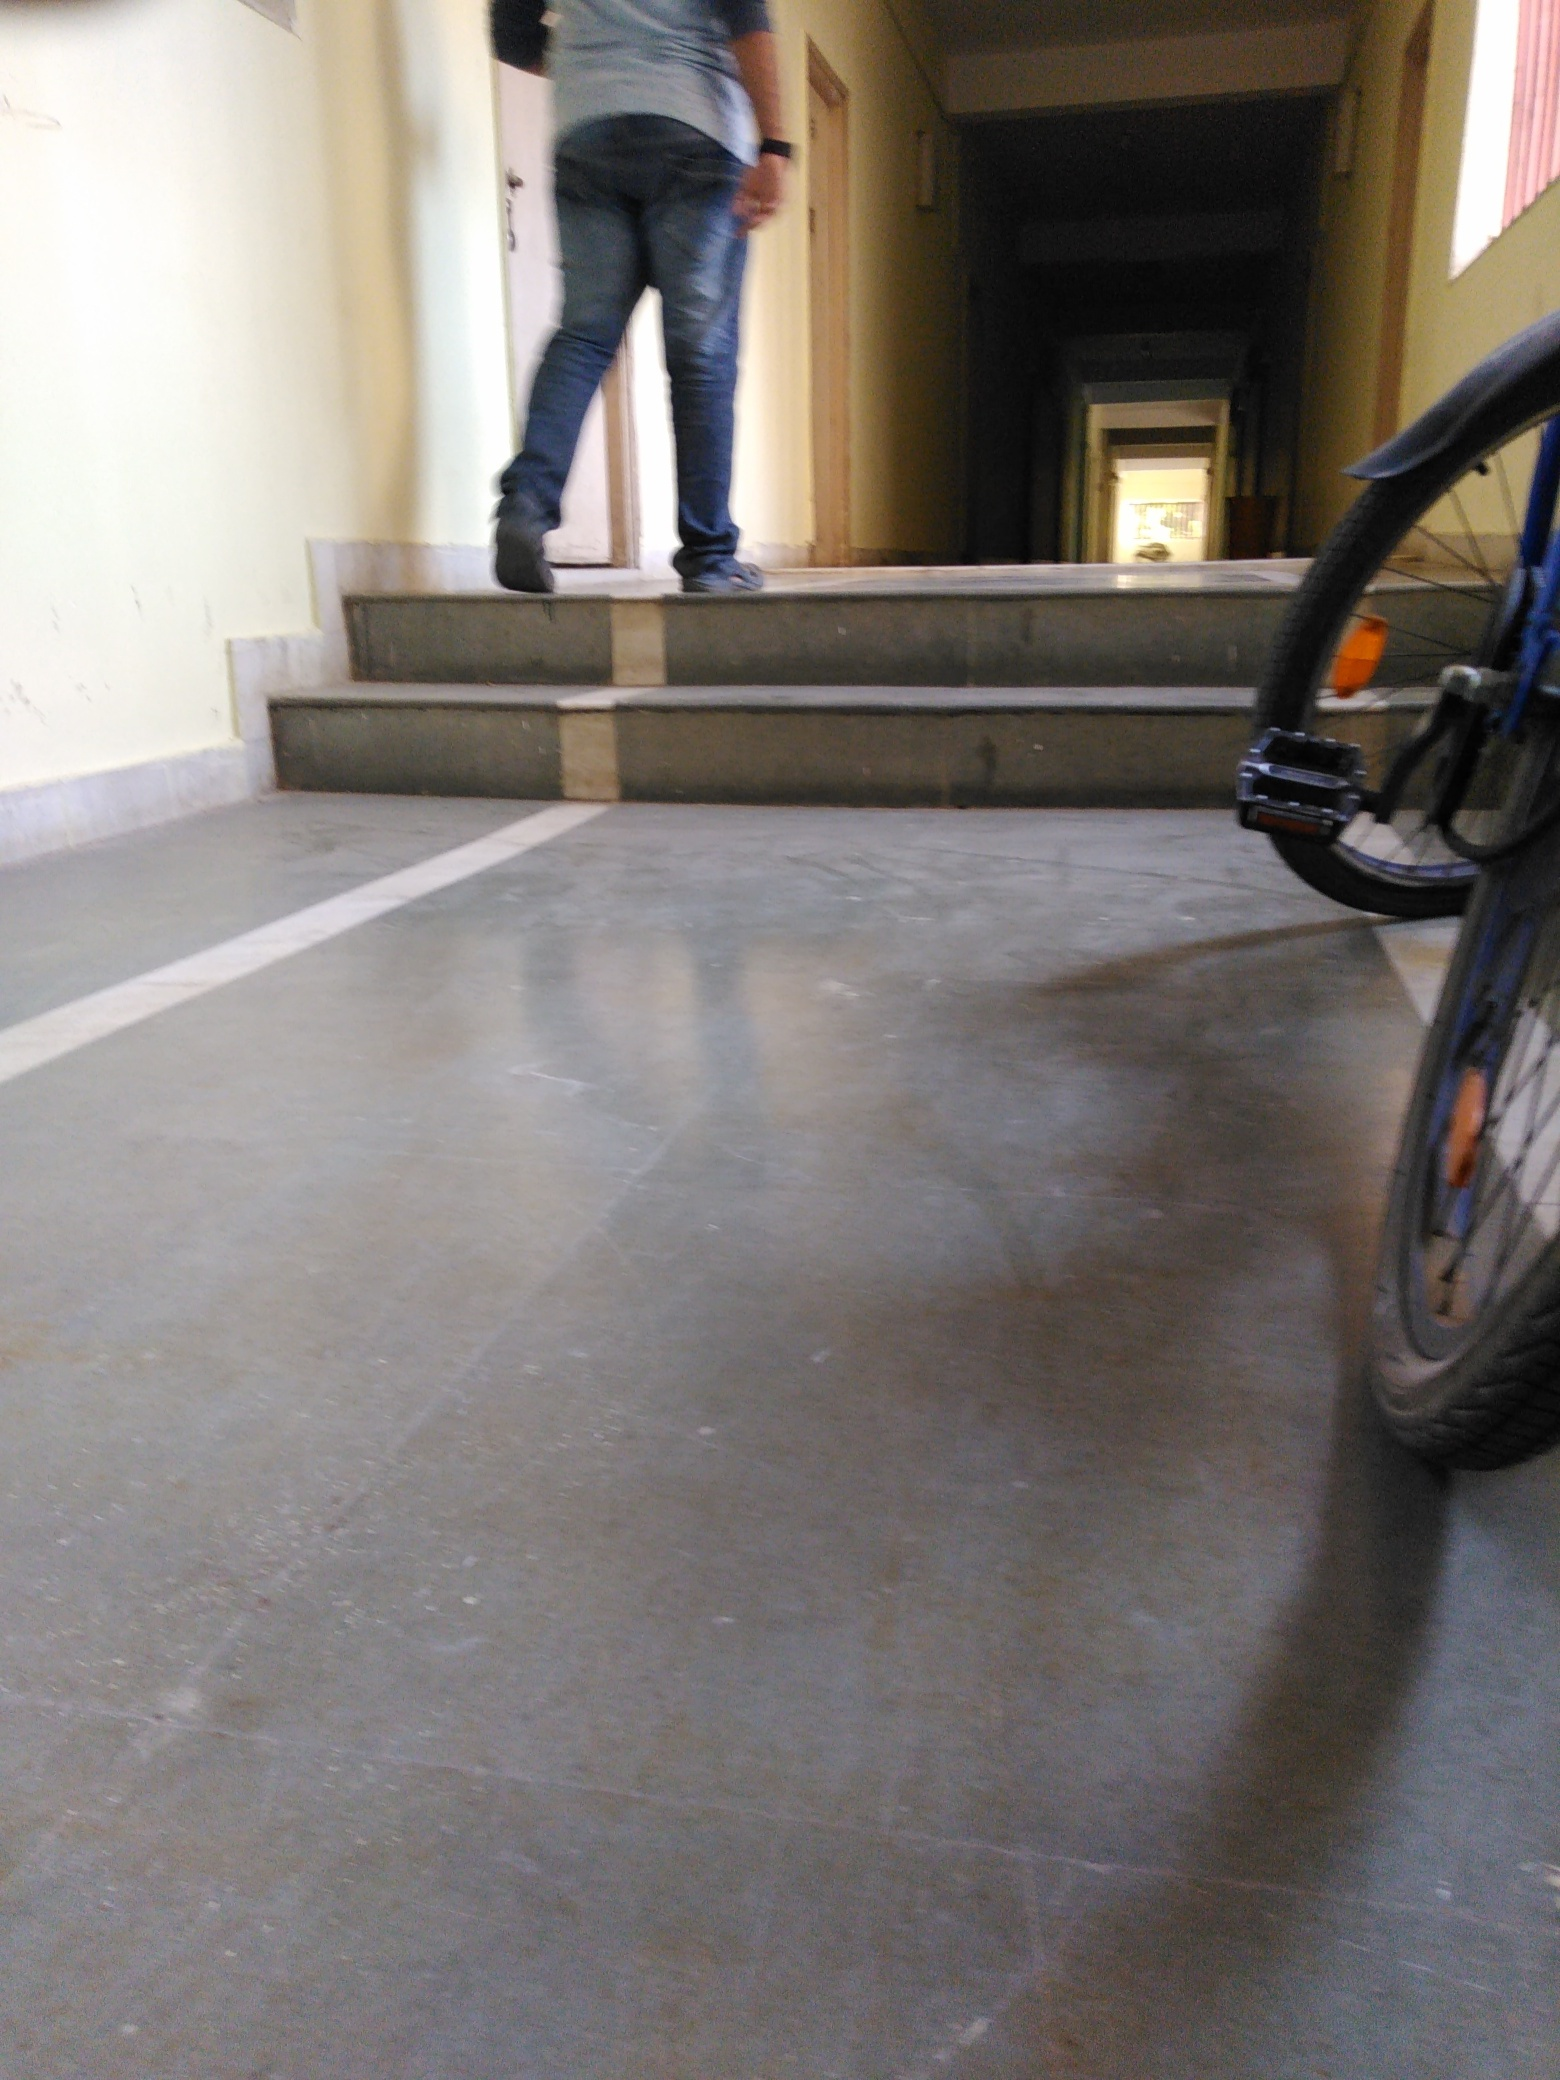stairs_up: (269, 575, 1286, 816)
